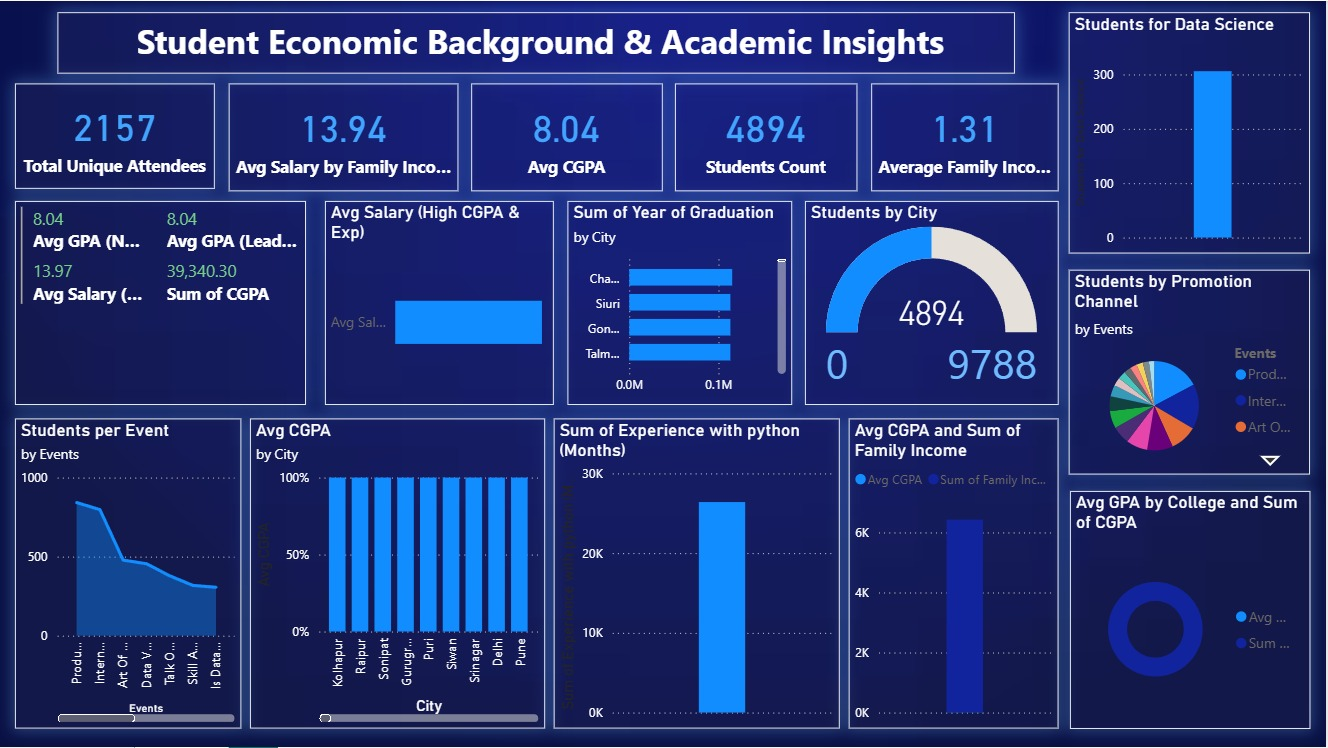

The dashboard page shown, as its layout file describes it:
{"tool":"powerbi","page":{"name":"Page 1","canvas":[1280,720],"ordinal":0},"visuals":[{"type":"treemap","fields":{"Group":["Sheet1.Year of Graduation"],"Values":["Sum(Sheet1.Students by Graduation Year)"]},"box":[303.3,194.4,393.8,232.3],"z":0},{"type":"gauge","fields":{"Y":["Sheet1.Average GPA"]},"box":[212.8,85.6,181,97.8],"z":1000},{"type":"card","fields":{"Values":["Sheet1.Unique Students"]},"box":[18.3,85.6,178.5,97.8],"z":2000},{"type":"card","fields":{"Values":["Sheet1.Students Family Income"]},"box":[827.9,84.4,182.2,99],"z":3000},{"type":"clusteredBarChart","fields":{"Category":["Sheet1.College Name"],"Y":["Sheet1.Average GPA"]},"box":[1028.4,415.8,239.7,192],"z":4000},{"type":"card","fields":{"Values":["Sheet1.Students by Python Experience"]},"box":[607.7,84.4,207.9,99],"z":5000},{"type":"tableEx","fields":{"Values":["Sheet1.City","Sheet1.Average GPA by City"]},"box":[1019.8,17.1,248.2,89.3],"z":6000},{"type":"scatterChart","fields":{"Category":["Sheet1.Email ID"],"X":["Sum(Sheet1.Family Income)"],"Y":["Sum(Sheet1.CGPA)"]},"box":[309.4,441.4,262.9,262.9],"z":7000},{"type":"barChart","fields":{"Category":["Sheet1.City"],"Y":["Sheet1.Students by City"]},"box":[18.3,194.4,272.7,232.3],"z":8000},{"type":"scatterChart","fields":{"Category":["Sheet1.CGPA"],"X":["Sheet1.Avg Salary by GPA"],"Y":["Sheet1.Avg Salary by Family Income"],"Size":["Sheet1.Avg Salary by Python Experience"]},"box":[711.7,194.4,295.9,232.3],"z":9000},{"type":"pieChart","fields":{"Category":["Sheet1.Designation"],"Y":["Sheet1.Students per Event"],"Series":["Sheet1.Events"]},"box":[1019.8,251.9,248.2,146.7],"z":10000},{"type":"clusteredBarChart","fields":{"Y":["Sheet1.Avg GPA (Non-Leaders)","Sheet1.Avg GPA (Leaders)","Sheet1.Avg Salary (Leaders)"]},"box":[18.3,441.4,272.7,262.9],"z":11000},{"type":"barChart","fields":{"Category":["Sheet1.City"],"Y":["Sheet1.Students graduating by 2024"]},"box":[584.5,441.4,207.9,262.9],"z":12000},{"type":"barChart","fields":{"Y":["Sheet1.Students by Promotion Channel"]},"box":[1028.4,620,239.7,84.4],"z":13000},{"type":"columnChart","fields":{"Y":["Sheet1.Students for Data Science"]},"box":[813.2,441.4,196.9,262.9],"z":14000},{"type":"barChart","fields":{"Y":["Sheet1.Avg Salary (High CGPA & Exp)"]},"box":[1019.8,124.7,248.2,114.9],"z":15000},{"type":"card","fields":{"Values":["Sheet1.Average Expected Salary"]},"box":[406,84.4,188.3,99],"z":16000},{"type":"textbox","box":[18.3,17.1,989.3,55],"z":17000}]}

Visuals, with their boxes in screenshot pixels (x1, y1, x2, y2), scaled from the page's 1280x720 canvas onto the 1328x748 screenshot:
treemap - Sheet1.Year of Graduation x Sum(Sheet1.Students by Graduation Year): box(315, 202, 723, 443)
gauge - Sheet1.Average GPA: box(221, 89, 409, 191)
card - Sheet1.Unique Students: box(19, 89, 204, 191)
card - Sheet1.Students Family Income: box(859, 88, 1048, 191)
clusteredBarChart - Sheet1.College Name x Sheet1.Average GPA: box(1067, 432, 1316, 631)
card - Sheet1.Students by Python Experience: box(630, 88, 846, 191)
tableEx - Sheet1.City x Sheet1.Average GPA by City: box(1058, 18, 1316, 111)
scatterChart - Sheet1.Email ID x Sum(Sheet1.Family Income): box(321, 459, 594, 732)
barChart - Sheet1.City x Sheet1.Students by City: box(19, 202, 302, 443)
scatterChart - Sheet1.CGPA x Sheet1.Avg Salary by GPA: box(738, 202, 1045, 443)
pieChart - Sheet1.Designation x Sheet1.Students per Event: box(1058, 262, 1316, 414)
clusteredBarChart - Sheet1.Avg GPA (Non-Leaders) x Sheet1.Avg GPA (Leaders): box(19, 459, 302, 732)
barChart - Sheet1.City x Sheet1.Students graduating by 2024: box(606, 459, 822, 732)
barChart - Sheet1.Students by Promotion Channel: box(1067, 644, 1316, 732)
columnChart - Sheet1.Students for Data Science: box(844, 459, 1048, 732)
barChart - Sheet1.Avg Salary (High CGPA & Exp): box(1058, 130, 1316, 249)
card - Sheet1.Average Expected Salary: box(421, 88, 617, 191)
textbox: box(19, 18, 1045, 75)
